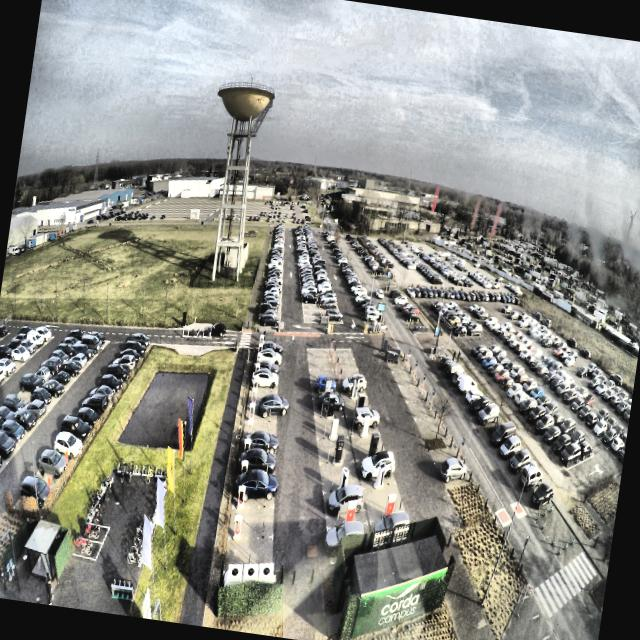cabinet: (227, 563, 274, 580)
car: (237, 469, 280, 503), (240, 447, 278, 476), (257, 391, 290, 418), (243, 431, 280, 455), (251, 369, 280, 390), (257, 348, 282, 365), (254, 360, 280, 375), (258, 341, 283, 356)
parking: (224, 536, 273, 572), (229, 505, 273, 538), (233, 480, 275, 507), (237, 460, 276, 481), (240, 439, 277, 459), (242, 422, 276, 439), (245, 405, 277, 422), (250, 376, 278, 392), (248, 392, 278, 406), (253, 363, 279, 374), (255, 353, 280, 364), (255, 344, 281, 353)
supercharger: (234, 515, 243, 539), (238, 486, 246, 508), (241, 461, 248, 477), (244, 440, 251, 456), (249, 404, 255, 420), (247, 420, 253, 435), (251, 389, 257, 401), (253, 376, 259, 388), (255, 364, 261, 374), (259, 334, 265, 344), (258, 343, 263, 354), (257, 353, 262, 363)
